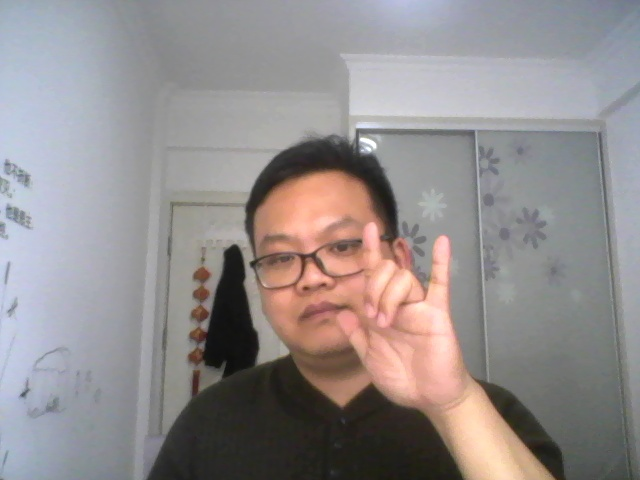I Love You: (335, 216, 479, 419)
